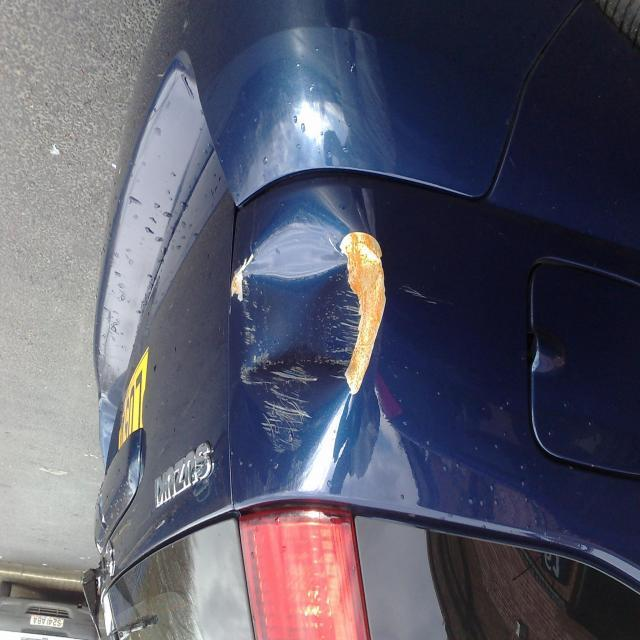dent: (224, 228, 386, 444)
